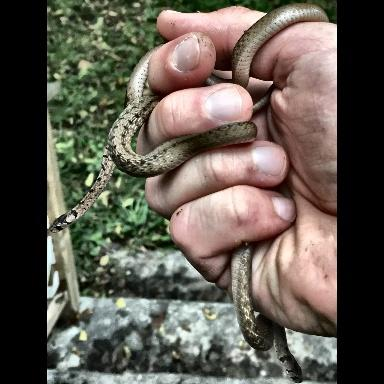snake: (48, 109, 257, 314), (232, 248, 302, 370), (232, 3, 302, 88), (125, 51, 153, 106)
